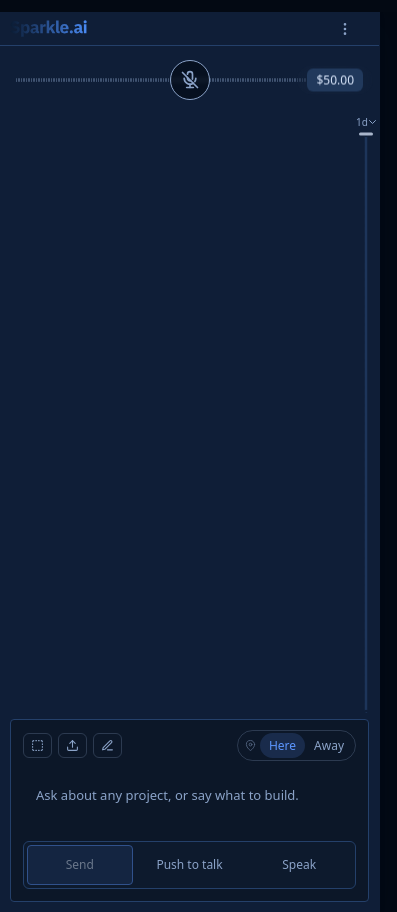
Test: the concierge reply linter is mounted › gives the linter the PREVIOUS reply, and only after the current one is linted
Type "first" into the text box at x=190, y=804, box [23,775,356,833]
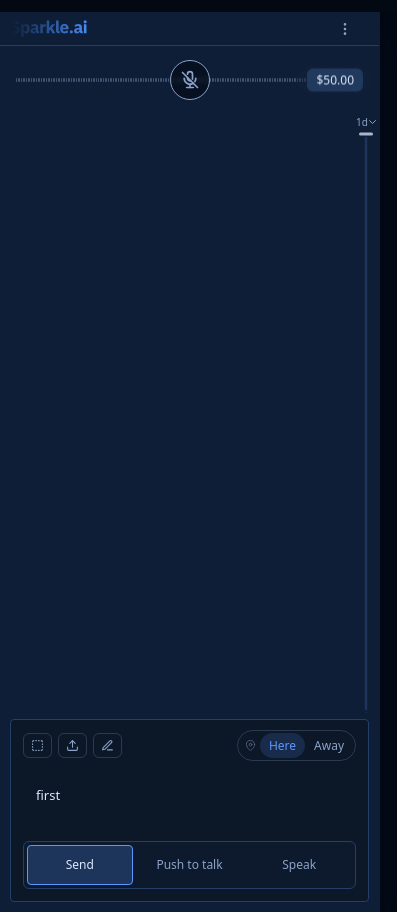
Click the button "Send" at x=80, y=865, box [27,845,133,885]
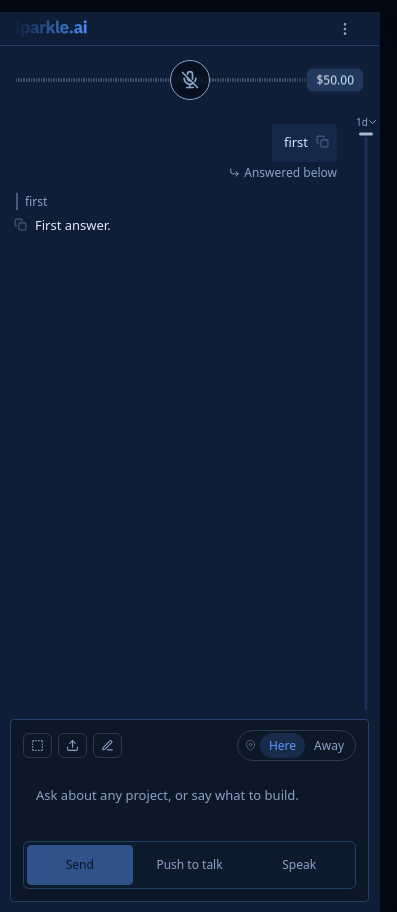
Type "second" into the text box at x=190, y=804, box [23,775,356,833]
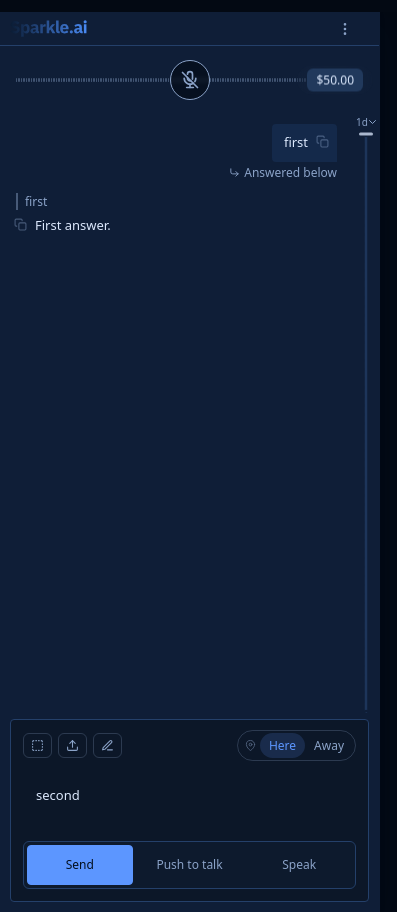
Click the button "Send" at x=80, y=865, box [27,845,133,885]
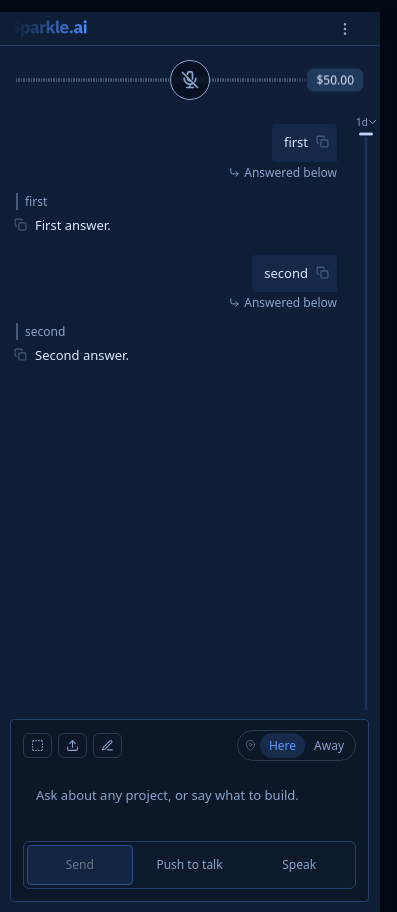
Expected: the text "First answer." is shown, [35,216,111,234]
Expected: the text "Second answer." is shown, [35,346,129,364]
